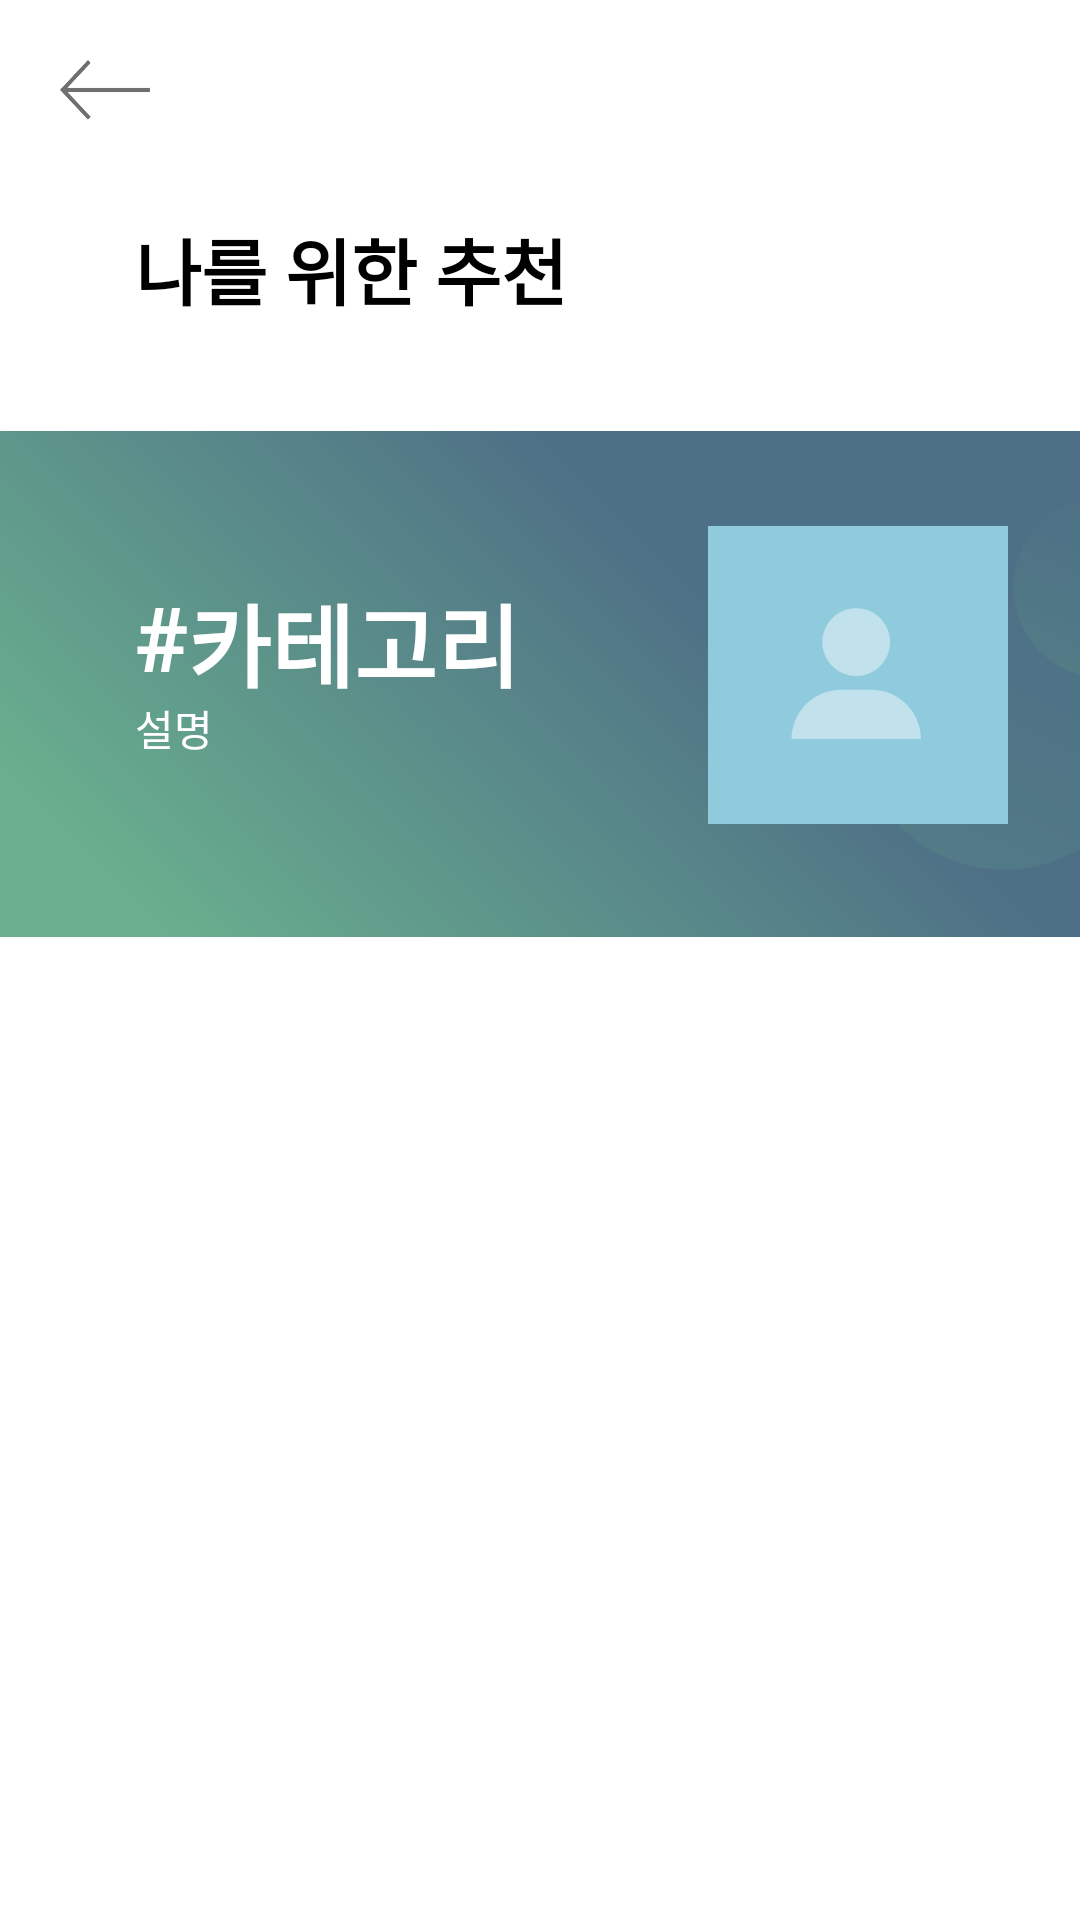

Screen size 1080 × 1920. Icon name, then its center in pixels as [x,y]:
backbutton: [105,89]
blankface: [858,675]
